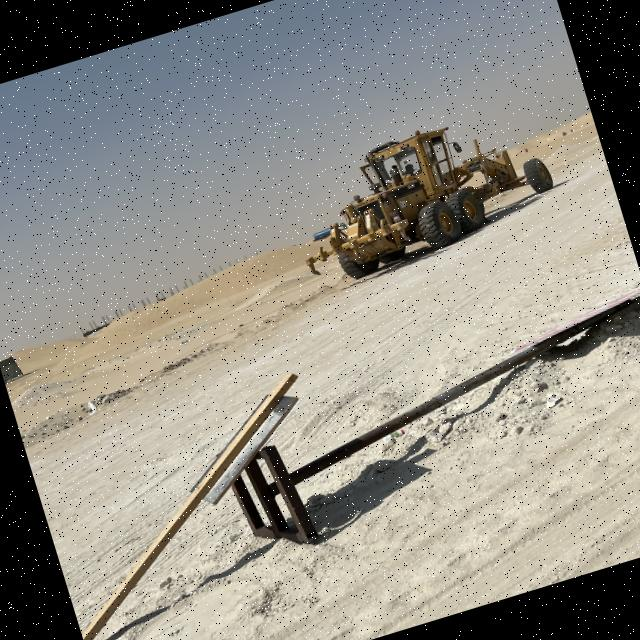Grader: (273, 85, 566, 302)
